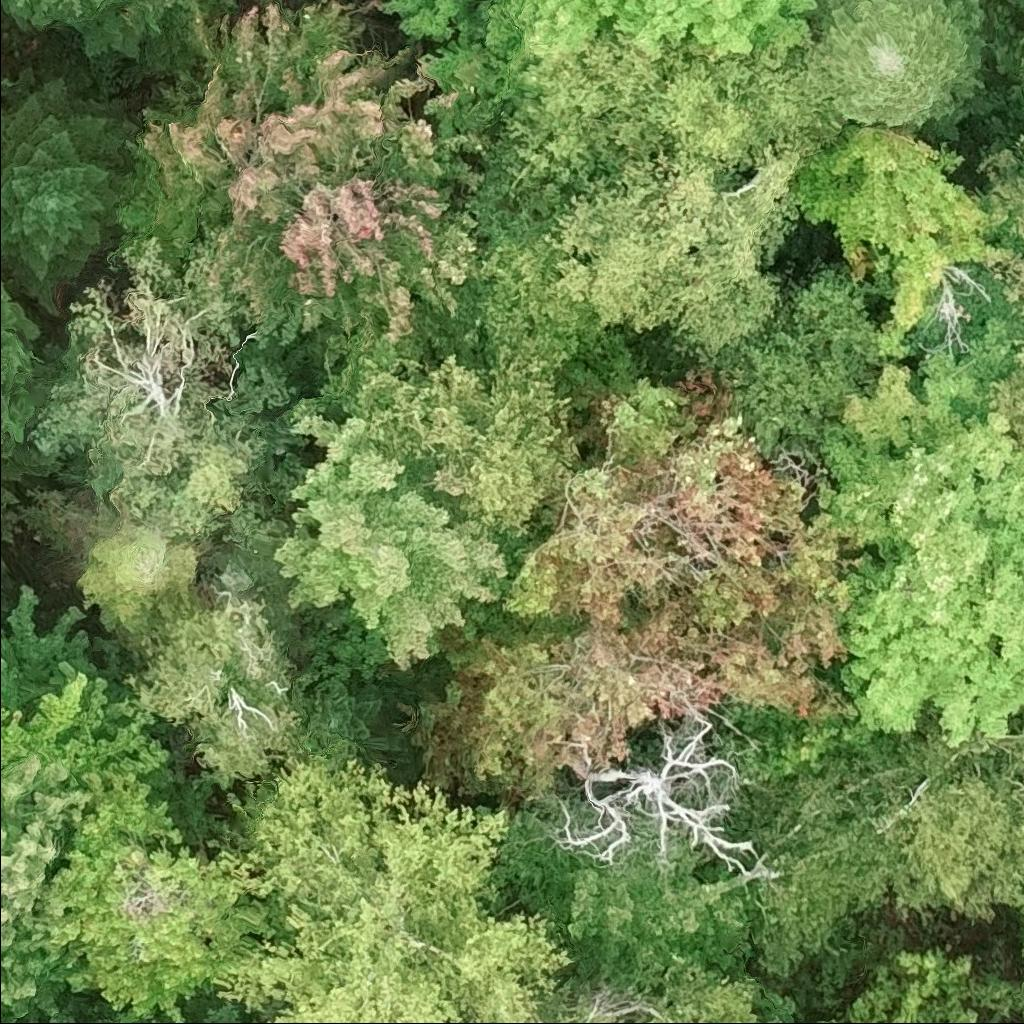crown: (114, 0, 493, 358), (459, 28, 840, 367), (501, 363, 872, 679), (188, 754, 578, 1023), (393, 597, 863, 813), (268, 410, 510, 677), (320, 334, 590, 565), (380, 0, 819, 137), (44, 766, 272, 1023), (791, 124, 1017, 356), (814, 319, 1023, 564), (495, 800, 758, 992), (830, 513, 1023, 751), (553, 707, 785, 889), (840, 704, 1023, 925), (0, 585, 178, 793), (121, 597, 312, 789), (0, 62, 138, 319), (425, 209, 611, 378), (785, 0, 992, 139), (0, 751, 92, 1023), (73, 510, 202, 638), (840, 947, 1019, 1023), (0, 0, 178, 61), (312, 669, 418, 769), (989, 329, 1023, 442), (530, 991, 650, 1023), (187, 1000, 250, 1023), (128, 1014, 175, 1023), (1018, 917, 1023, 965), (1018, 117, 1023, 150)
